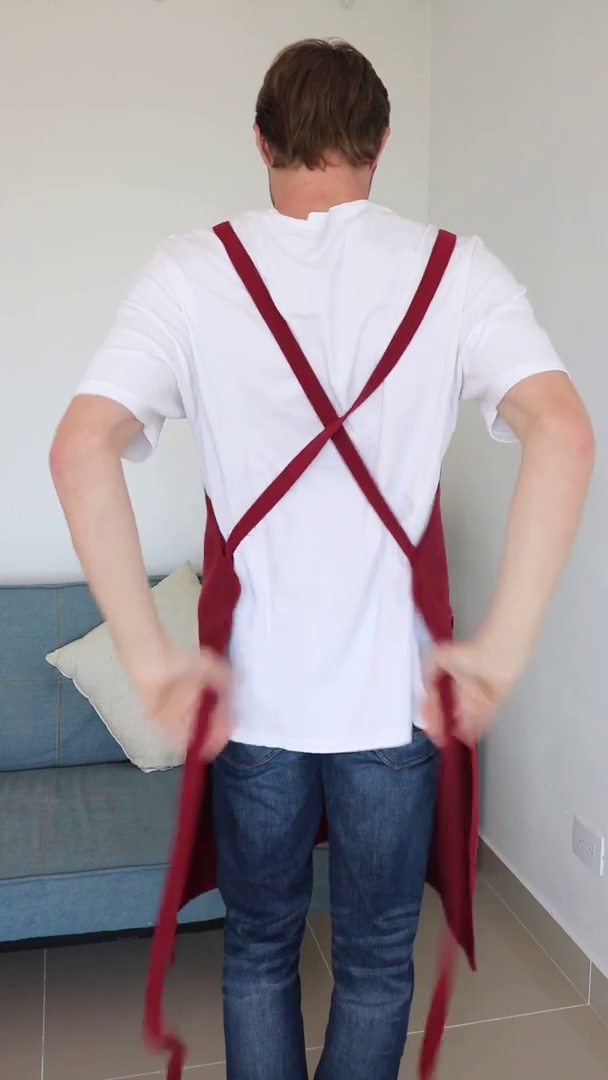Apron: (183, 227, 460, 761)
No_Glove: (129, 635, 235, 783), (405, 630, 534, 751)
No_Hairnet: (245, 35, 408, 178)
